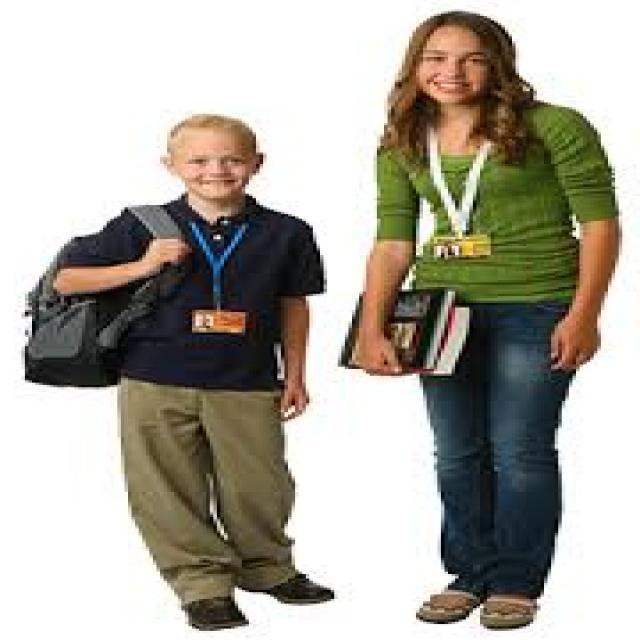id_card: (424, 95, 498, 259), (184, 218, 252, 340)
